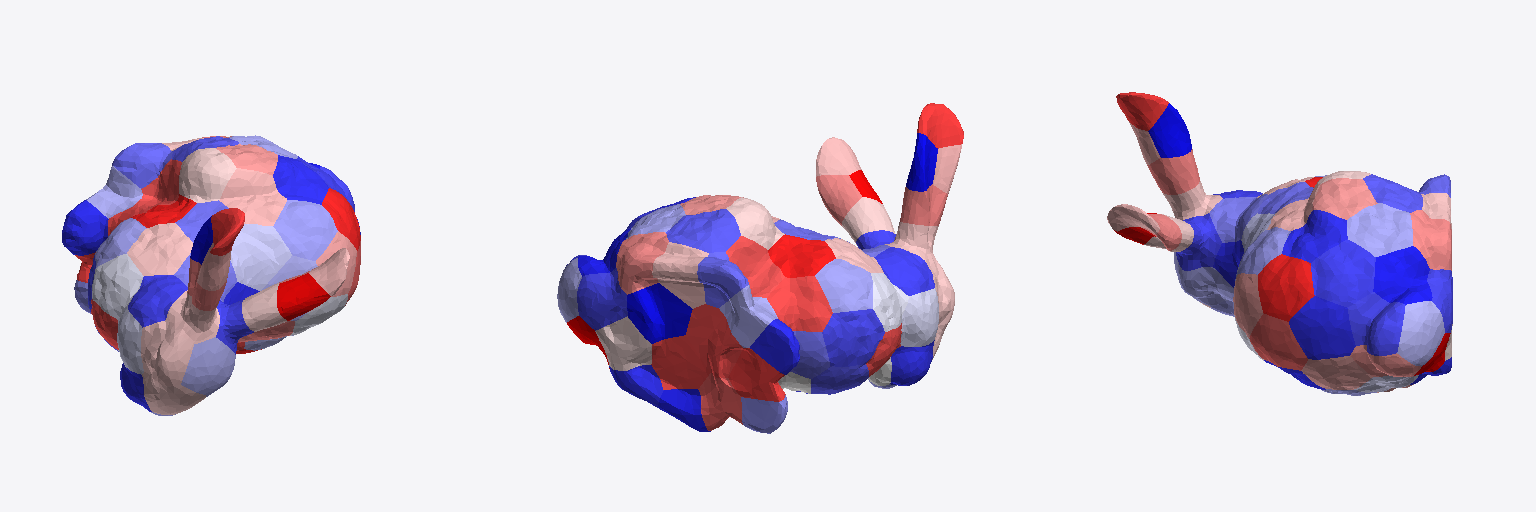
3 views of the same model, side by side, from view 1: azimuth 30°, elevation 25°; view 2: azimuth 150°, elevation 25°; view 3: azimuth 270°, elevation 25° (orthographic).
Visible parts, largest first — view 1: 3D_Object; view 2: 3D_Object; view 3: 3D_Object.
Part boxes in pixels (x1,y1,x2,y2): 3D_Object: (62,135,360,415); 3D_Object: (557,103,963,433); 3D_Object: (1107,92,1452,395).
Size of the model in its own units: 1.99 by 1.53 by 2.
1 materials, 1 textured.